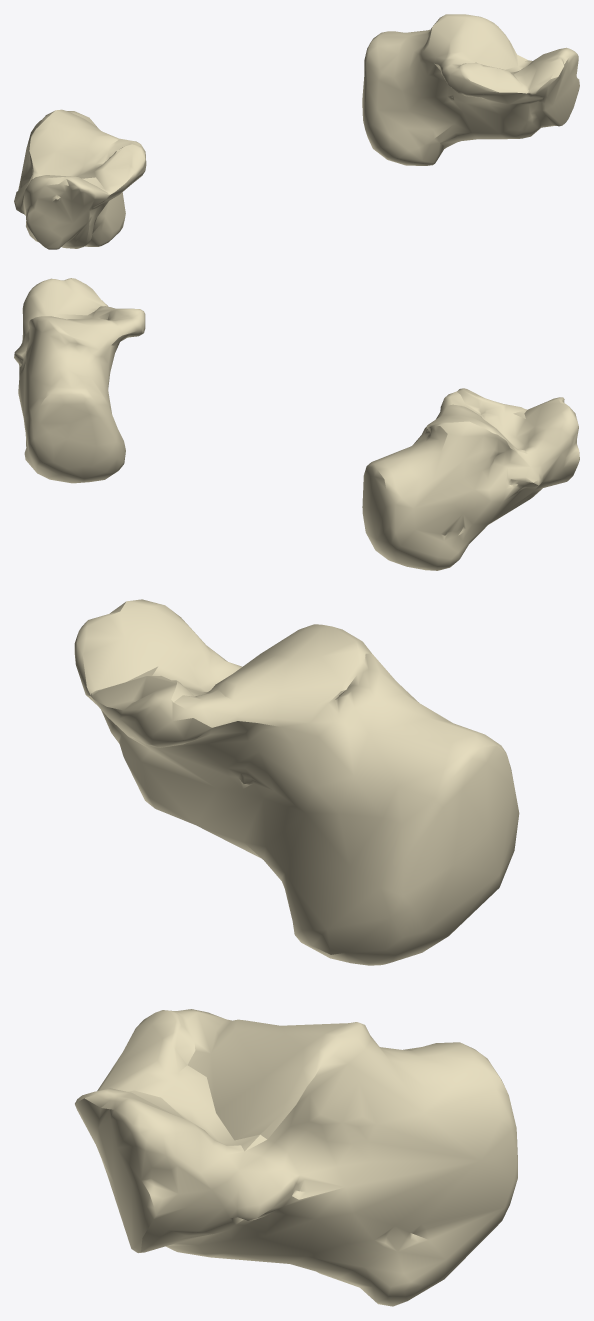
The model's file is calcaneus.glb.
The picture shows the model from 3 angles, top to bottom: view 1: azimuth 30°, elevation 25°; view 2: azimuth 150°, elevation 25°; view 3: azimuth 270°, elevation 25°; orthographic projection. The views are drawn at different scales.
Visible parts, largest first — view 1: Calcaneus; view 2: Calcaneus; view 3: Calcaneus.
Part boxes in pixels (x1,y1,x2,y2): Calcaneus: (14, 14, 579, 249); Calcaneus: (14, 278, 579, 570); Calcaneus: (74, 599, 519, 1306).
Bounding box in the file's own units: 0.2015 × 0.0494 × 0.0701.
